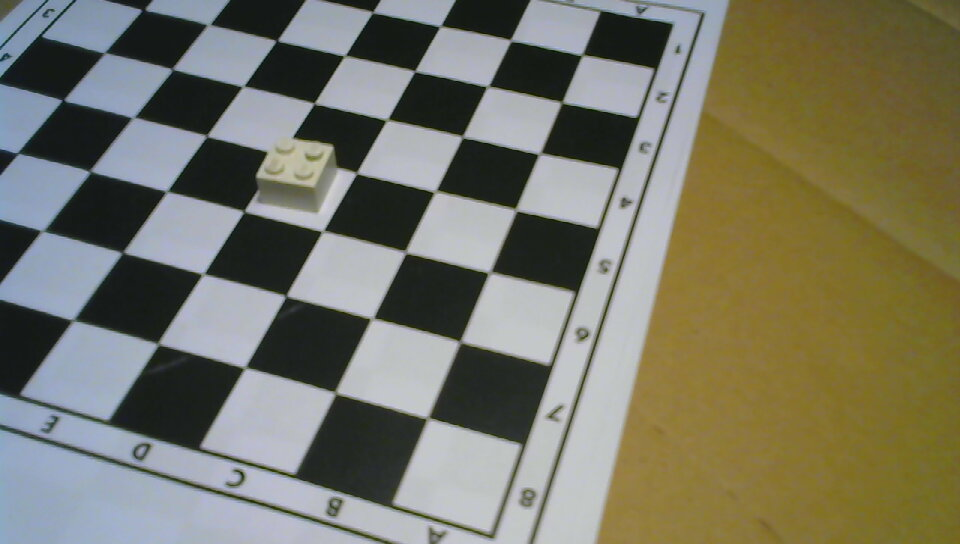wp: (254, 134, 337, 214)
